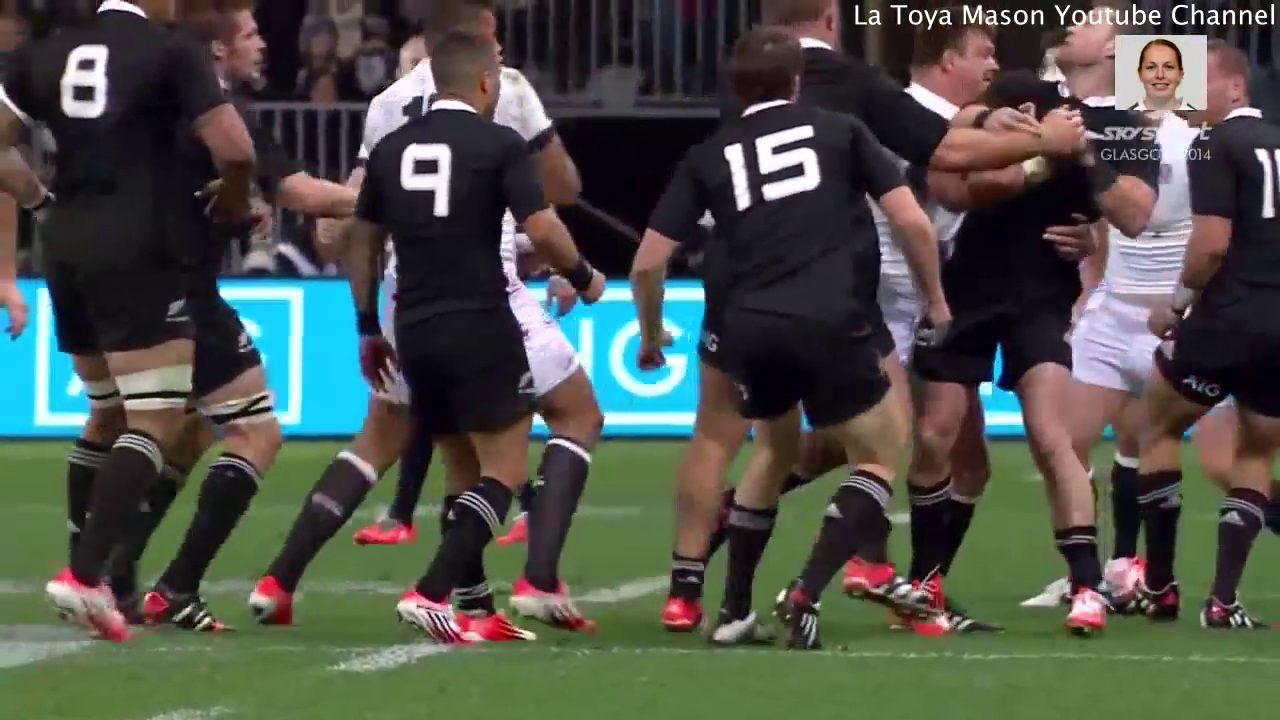player: (621, 27, 964, 654), (1, 1, 266, 656), (355, 34, 603, 652), (1128, 34, 1280, 632)
